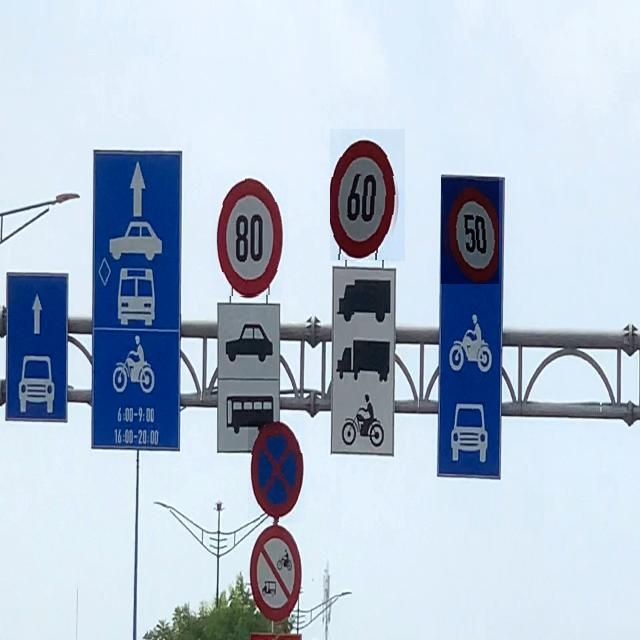bien_chi_dan: (330, 130, 405, 262), (211, 171, 288, 297), (442, 177, 499, 284), (248, 421, 305, 523)
